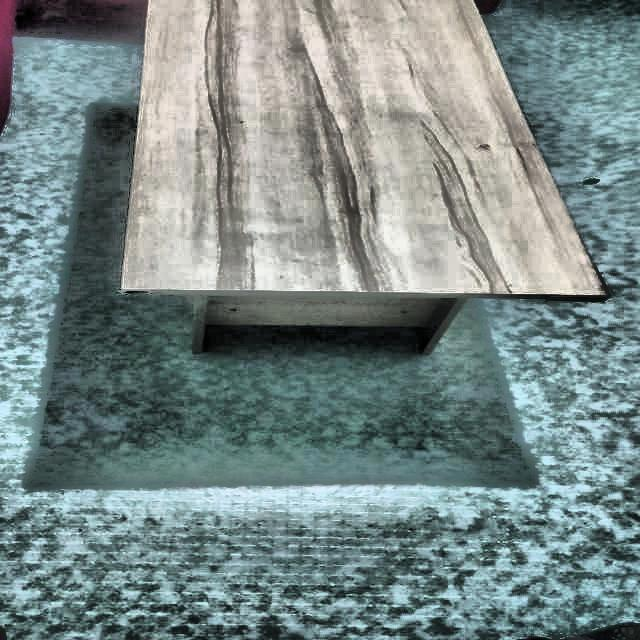mesa: (95, 0, 613, 374)
